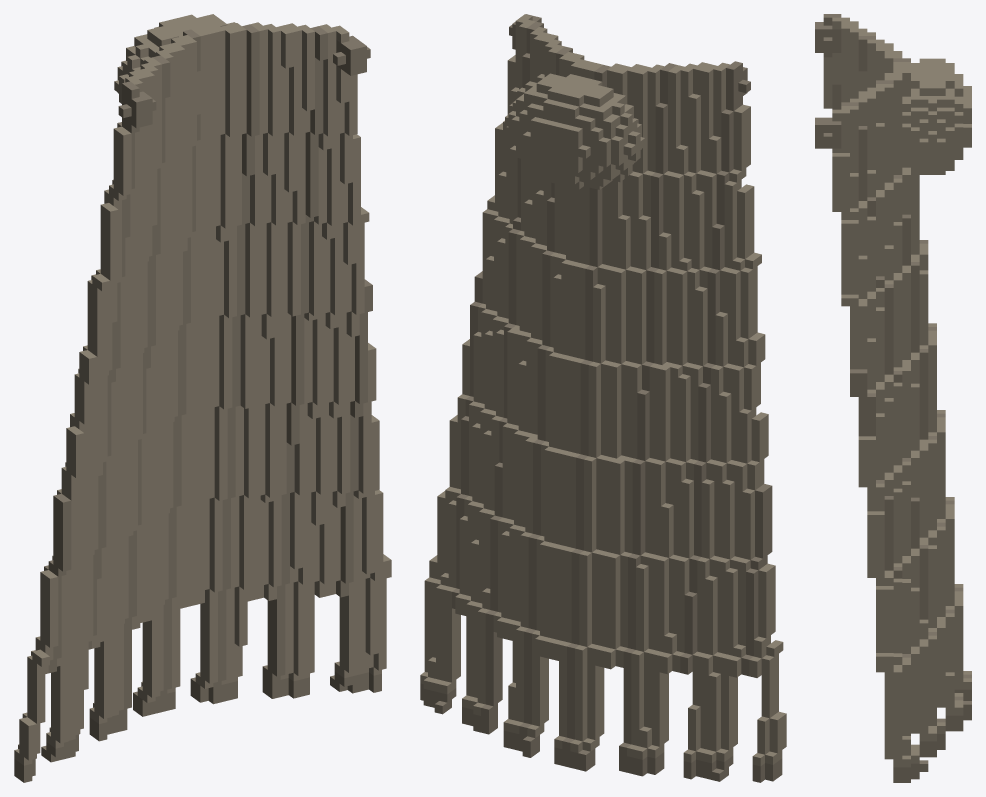
Rendered from cloth_uncommon_cloak.glb.
3 views of the same model, side by side, from view 1: azimuth 30°, elevation 25°; view 2: azimuth 150°, elevation 25°; view 3: azimuth 270°, elevation 25° (orthographic). The views are drawn at different scales.
Visible parts, largest first — view 1: cloth_uncommon_cloak; view 2: cloth_uncommon_cloak; view 3: cloth_uncommon_cloak.
Boxes of the visible parts, x1=… form: cloth_uncommon_cloak: x1=14, y1=14, x2=391, y2=782; cloth_uncommon_cloak: x1=420, y1=14, x2=786, y2=782; cloth_uncommon_cloak: x1=815, y1=14, x2=971, y2=782.
Bounding box in the file's own units: 0.528 × 0.972 × 0.216.
